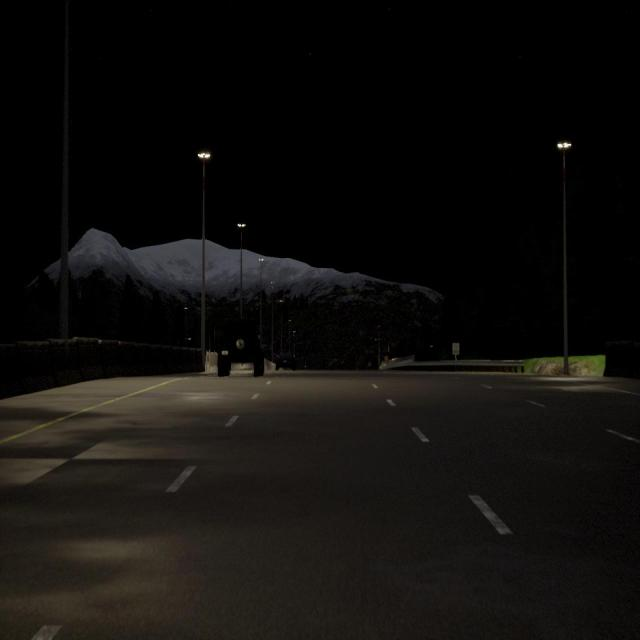Traffic_Signs: (384, 356, 388, 361), (368, 363, 371, 366)
Vehicle: (217, 320, 265, 377), (276, 353, 296, 371)
